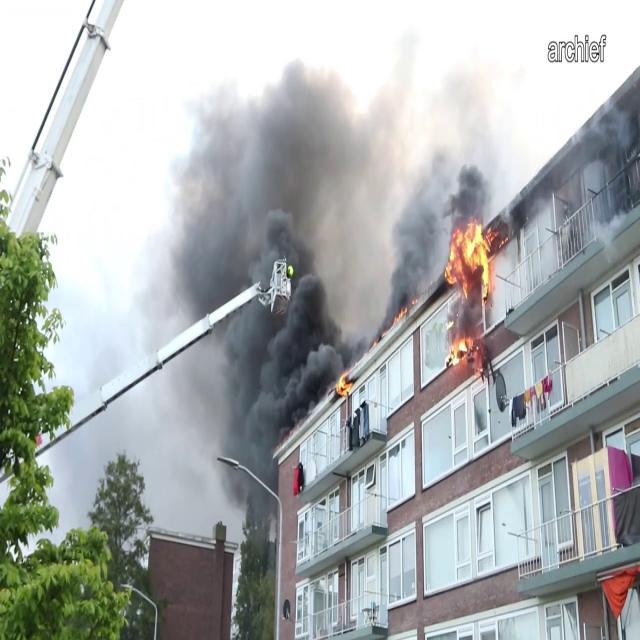Fire: (444, 212, 496, 304), (446, 329, 474, 369)
Smoke: (128, 15, 506, 318)
